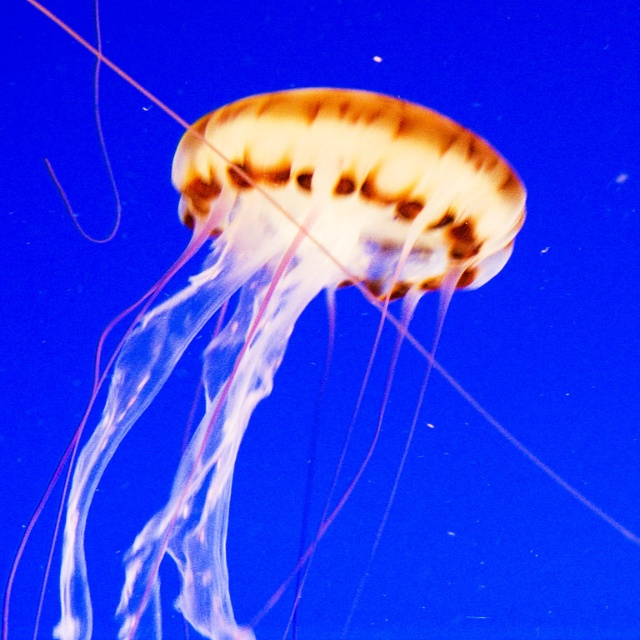Jellyfish: (3, 87, 527, 640)
